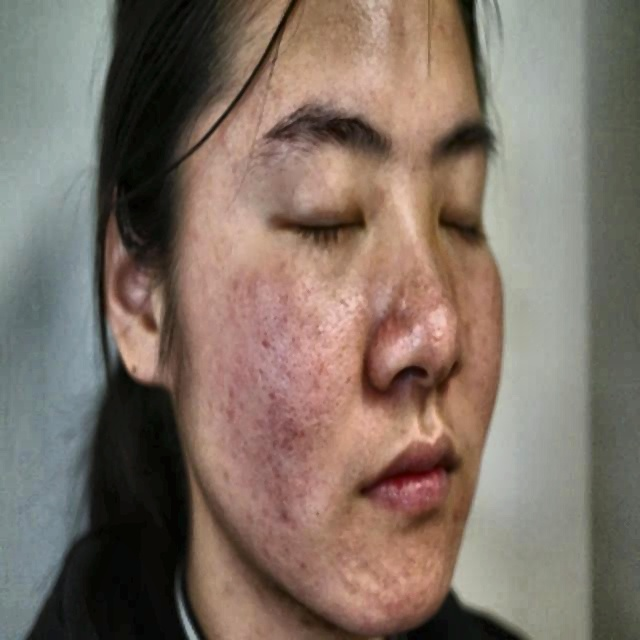comedone: (379, 306, 408, 353), (216, 123, 236, 159)
